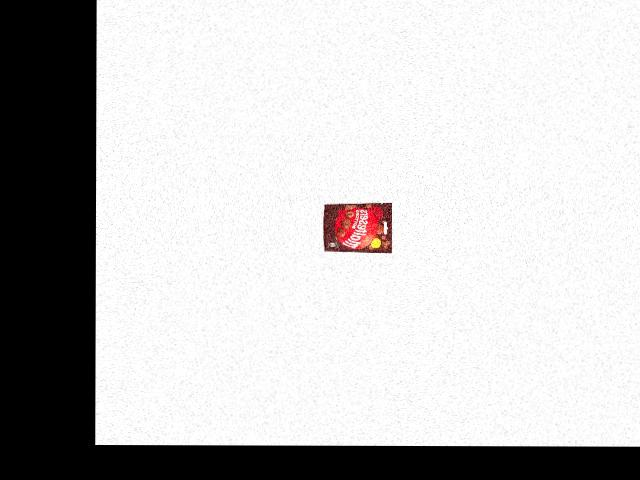chocolate: (321, 201, 393, 253)
